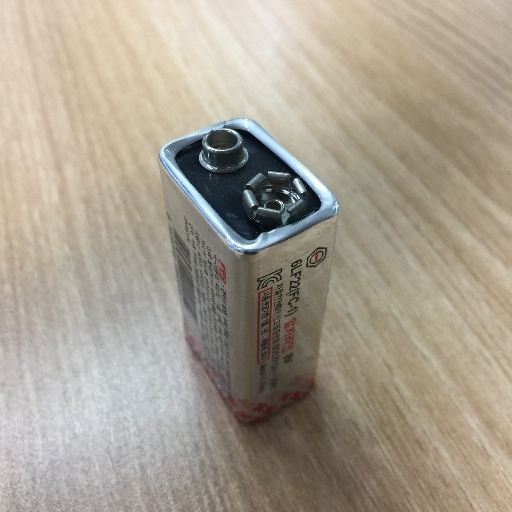Battery_3: (147, 105, 353, 447)
